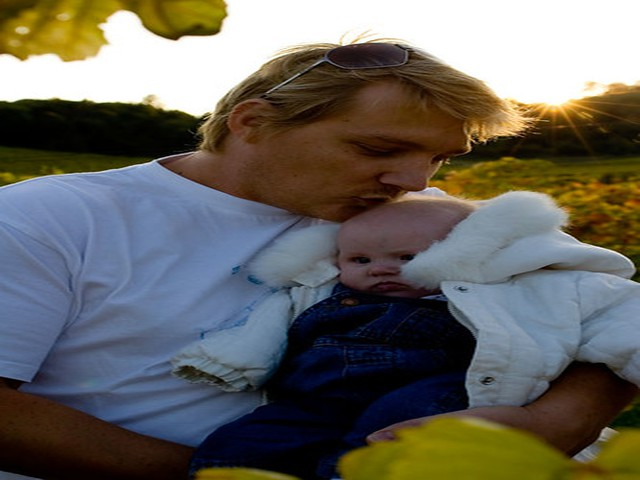Person: (17, 40, 474, 413)
